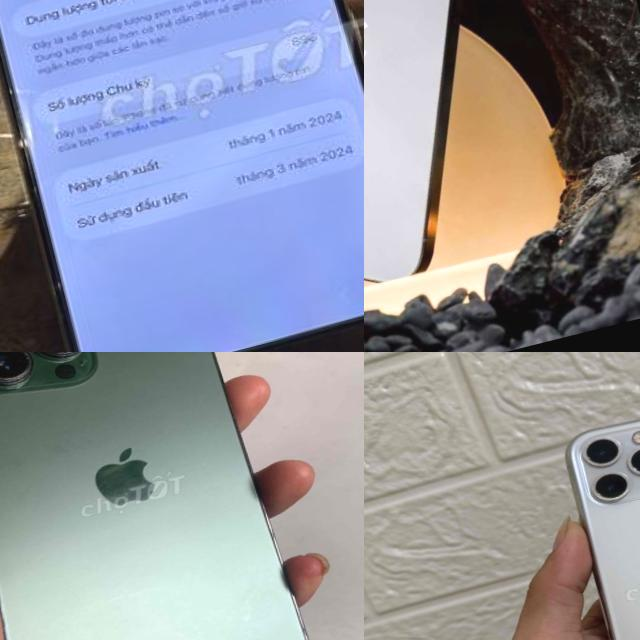gen_11: (545, 371, 640, 640)
gen_12_13: (0, 352, 343, 640)
gen_15: (0, 0, 364, 352), (364, 0, 570, 320)
